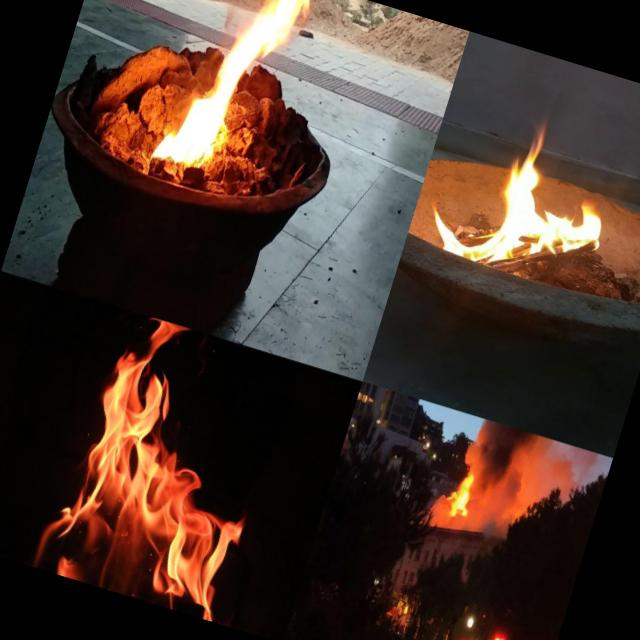fire: (23, 302, 304, 625), (417, 88, 640, 300), (155, 0, 322, 191), (432, 468, 476, 522), (386, 589, 413, 621)
smoke: (458, 416, 588, 506), (460, 476, 544, 550)
